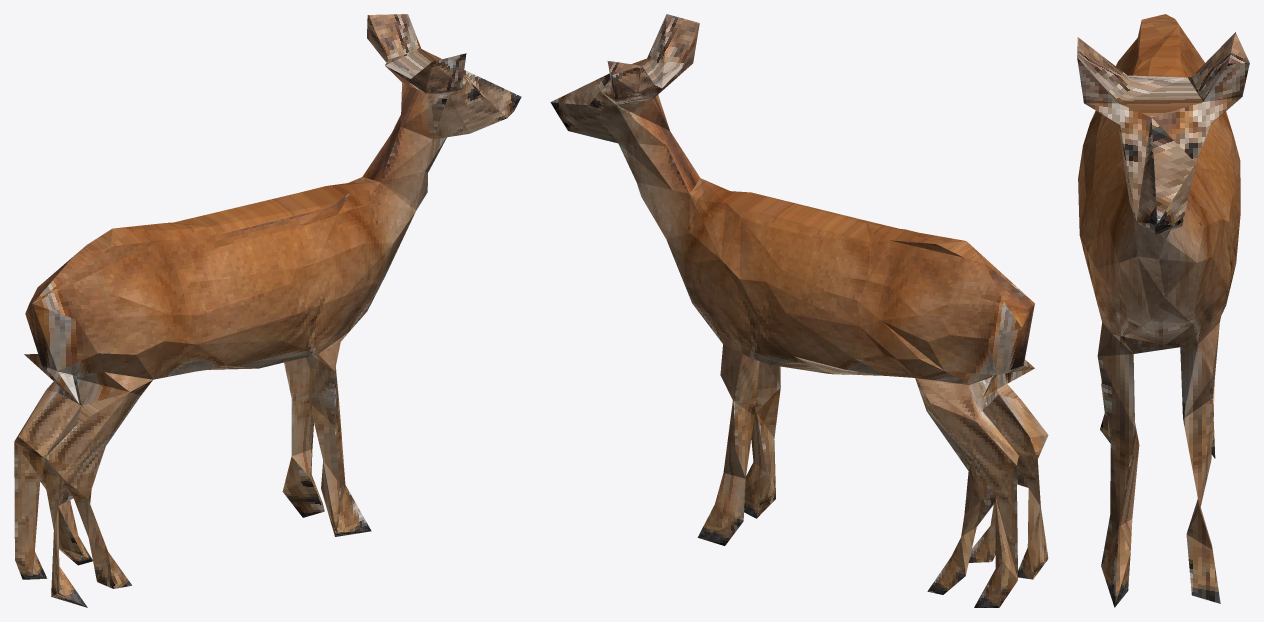
The model's file is animal.salvaje.cierva.glb.
The picture shows the model from 3 angles, left to right: view 1: azimuth 30°, elevation 25°; view 2: azimuth 150°, elevation 25°; view 3: azimuth 270°, elevation 25°; orthographic projection. The views are drawn at different scales.
Visible parts, largest first — view 1: animal.salvaje.cierva; view 2: animal.salvaje.cierva; view 3: animal.salvaje.cierva.
Boxes of the visible parts, left/top/right/bottom form: animal.salvaje.cierva: left=14, top=14, right=521, bottom=607; animal.salvaje.cierva: left=550, top=14, right=1048, bottom=607; animal.salvaje.cierva: left=1077, top=14, right=1249, bottom=607.
Bounding box in the file's own units: 1.83 × 1.7 × 0.4351.
Materials: 1 (1 with a texture image).
